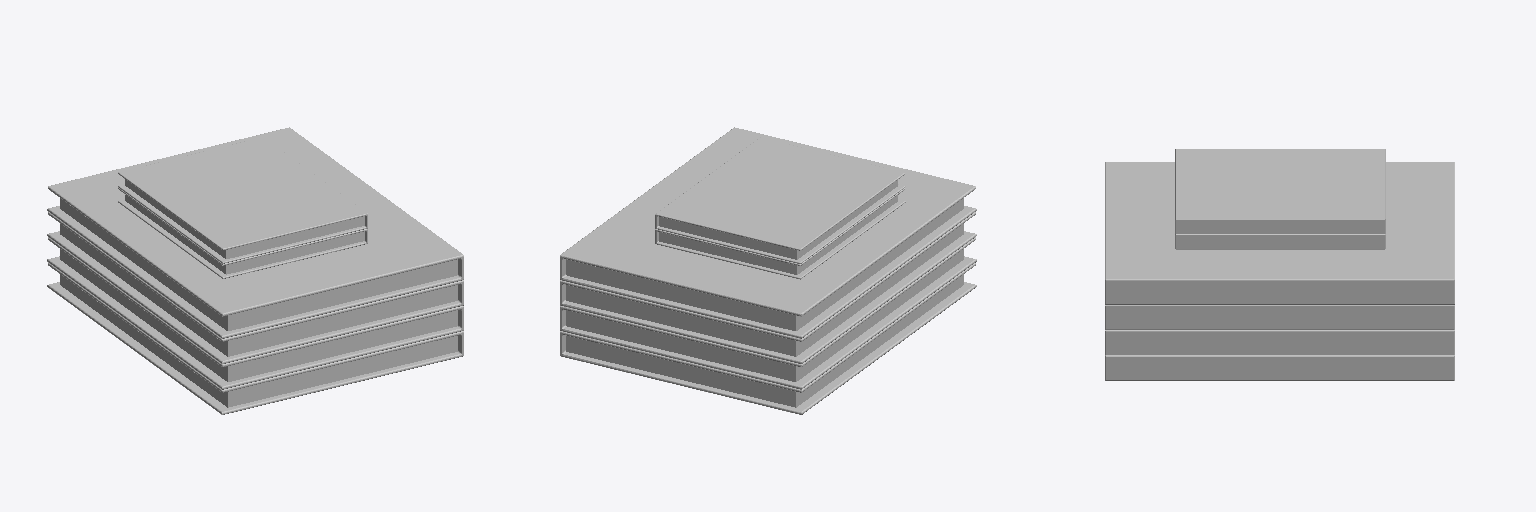
File: Book_1_OBJ.obj
3 views of the same model, side by side, from view 1: azimuth 30°, elevation 25°; view 2: azimuth 150°, elevation 25°; view 3: azimuth 270°, elevation 25° (orthographic).
Parts seen in each view (by area): view 1: Object003, Object001, Object011, Object010, Object012, Object009, Object006, Object004, Object005, Object007, Object008, Object002; view 2: Object003, Object001, Object011, Object010, Object009, Object012, Object006, Object004, Object005, Object008, Object007, Object002; view 3: Object003, Object001, Object006, Object004, Object005, Object002.
Boxes of the visible parts, x1,y1,x2,y2 form: Object003: [47, 127, 463, 338]; Object001: [118, 137, 367, 263]; Object011: [60, 249, 457, 381]; Object010: [60, 224, 457, 356]; Object012: [60, 274, 457, 407]; Object009: [60, 198, 457, 330]; Object006: [47, 263, 463, 414]; Object004: [47, 212, 463, 363]; Object005: [47, 237, 463, 389]; Object007: [125, 179, 364, 258]; Object008: [125, 195, 364, 274]; Object002: [118, 188, 367, 278]; Object003: [560, 127, 976, 338]; Object001: [655, 137, 905, 263]; Object011: [566, 249, 963, 381]; Object010: [566, 224, 963, 356]; Object009: [566, 198, 963, 330]; Object012: [566, 274, 963, 407]; Object006: [560, 263, 976, 414]; Object004: [560, 212, 976, 363]; Object005: [560, 237, 976, 389]; Object008: [659, 195, 897, 274]; Object007: [659, 180, 897, 259]; Object002: [655, 188, 905, 279]; Object003: [1105, 162, 1454, 304]; Object001: [1175, 149, 1385, 233]; Object006: [1105, 355, 1454, 380]; Object004: [1105, 305, 1454, 329]; Object005: [1105, 330, 1454, 354]; Object002: [1175, 234, 1385, 249].
Size of the model in its own units: 7.87 by 4.09 by 9.84.